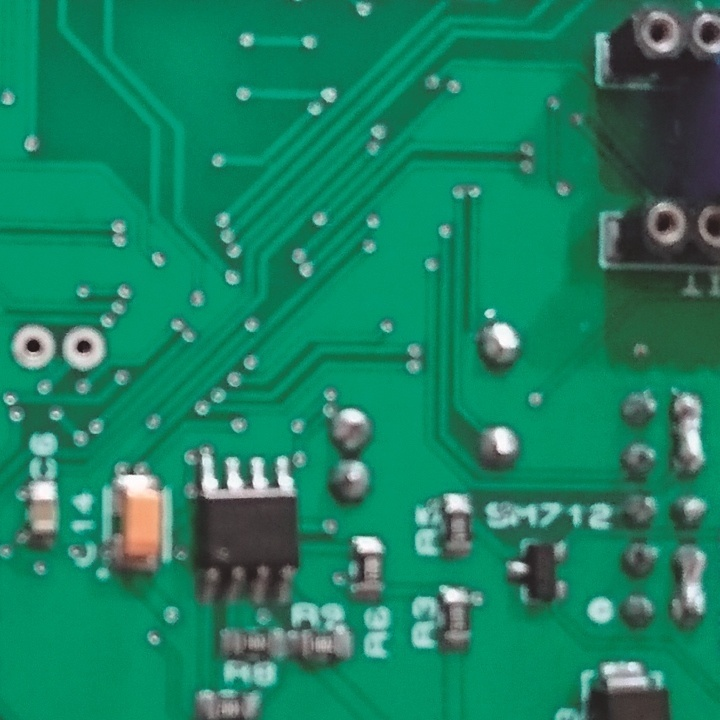F: (58, 322, 110, 375), (7, 322, 56, 369)
P: (672, 540, 709, 631), (670, 392, 709, 475)
